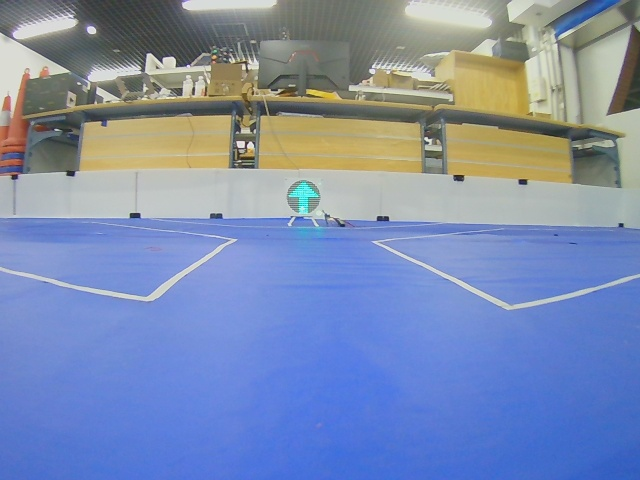straight_green: (287, 180, 321, 215)
